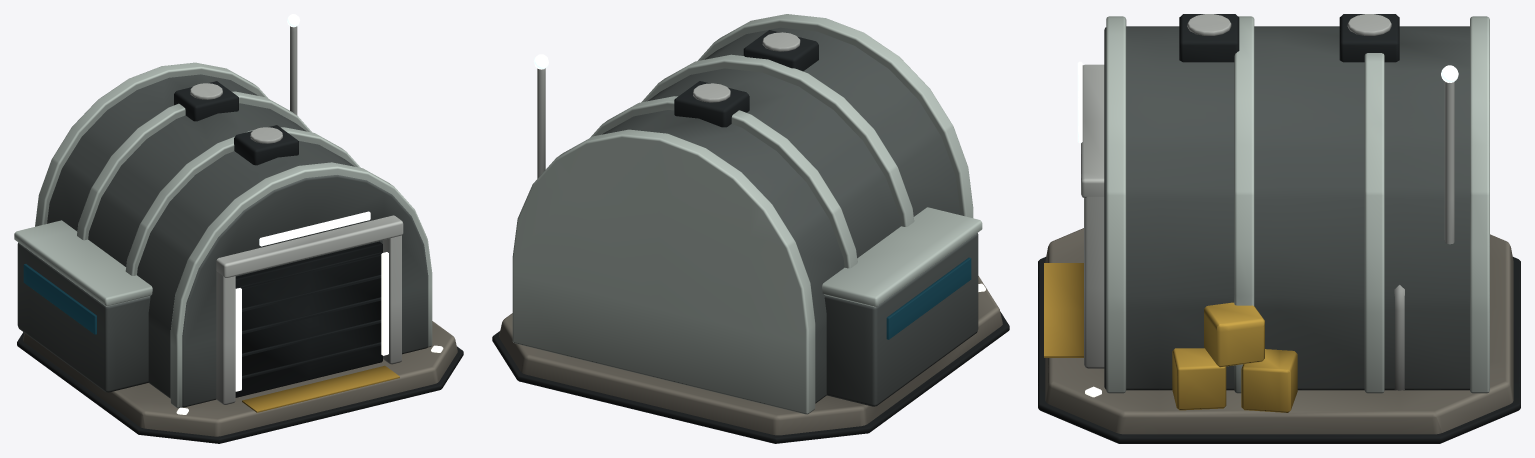
The model's file is barracks.glb.
The picture shows the model from 3 angles, left to right: view 1: azimuth 30°, elevation 25°; view 2: azimuth 150°, elevation 25°; view 3: azimuth 270°, elevation 25°; orthographic projection. The views are drawn at different scales.
Visible parts, largest first — view 1: Hangar, Ribs, Gear.007, Foundation.001, Steel.009, Annex, Trim.001, Hazard.001, Windows.001, Lamps.003, Lights.007; view 2: Ribs, Hangar, Annex, Foundation.001, Trim.001, Gear.007, Steel.009, Windows.001; view 3: Hangar, Ribs, Foundation.001, Steel.009, Crates, Trim.001, Gear.007, Hazard.001, Lights.007.
Part boxes in pixels (bbox=[...]): Hangar: bbox=[47, 74, 428, 407]; Ribs: bbox=[14, 62, 432, 408]; Gear.007: bbox=[174, 81, 382, 397]; Foundation.001: bbox=[23, 321, 457, 436]; Steel.009: bbox=[190, 26, 403, 404]; Annex: bbox=[17, 242, 150, 392]; Trim.001: bbox=[17, 332, 463, 443]; Hazard.001: bbox=[242, 365, 399, 412]; Windows.001: bbox=[23, 264, 96, 334]; Lamps.003: bbox=[235, 252, 388, 391]; Lights.007: bbox=[259, 14, 370, 246]; Ribs: bbox=[512, 14, 982, 414]; Hangar: bbox=[602, 27, 960, 403]; Annex: bbox=[824, 233, 978, 406]; Foundation.001: bbox=[499, 276, 1002, 435]; Trim.001: bbox=[492, 312, 1009, 443]; Gear.007: bbox=[674, 30, 818, 127]; Steel.009: bbox=[537, 32, 800, 178]; Windows.001: bbox=[886, 257, 971, 339]; Hangar: bbox=[1104, 26, 1469, 390]; Ribs: bbox=[1106, 16, 1489, 393]; Foundation.001: bbox=[1045, 228, 1513, 434]; Steel.009: bbox=[1081, 14, 1454, 390]; Crates: bbox=[1172, 302, 1297, 412]; Trim.001: bbox=[1038, 257, 1520, 443]; Gear.007: bbox=[1179, 14, 1399, 62]; Hazard.001: bbox=[1044, 263, 1083, 357]; Lights.007: bbox=[1077, 61, 1458, 143].
Size of the model in its own units: 5.1 by 3.84 by 4.82.
